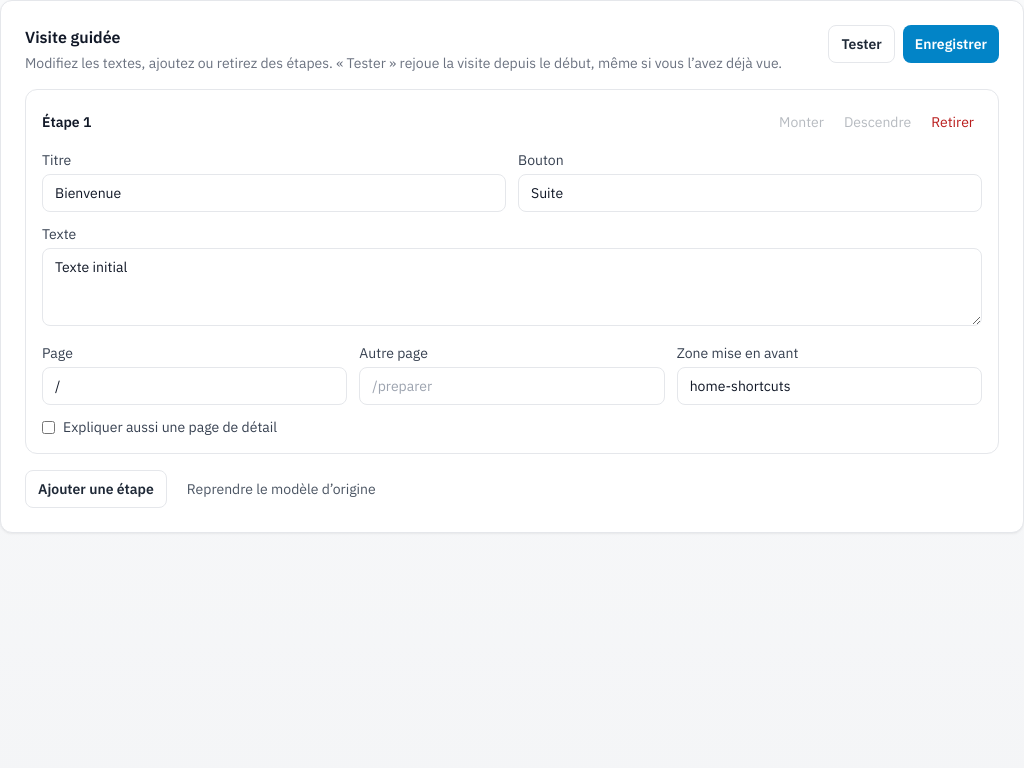
Test: OnboardingAdminPanel › modifie le texte, retire une étape et en ajoute une
Step 1. Replace the text in the field showing "Bienvenue" with "Bienvenue modifié" → (274, 193), box [42,174,506,212]
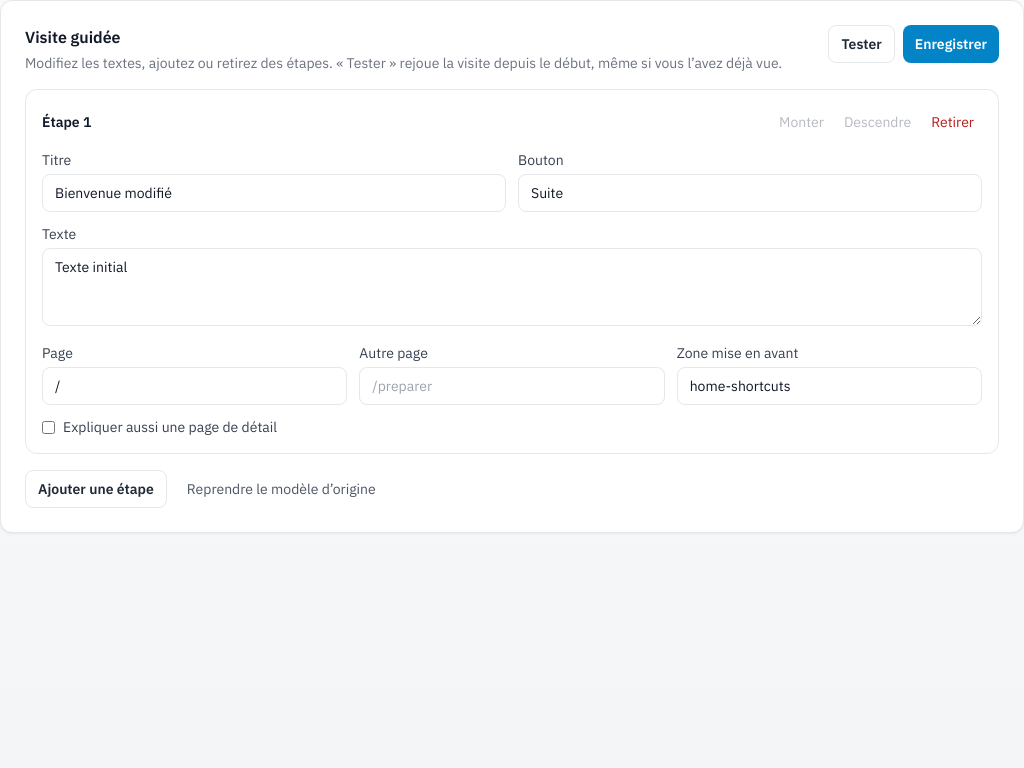
Step 2. Replace the text in the text box showing "Texte initial" with "Nouveau texte" → (512, 287), box [42,248,982,326]
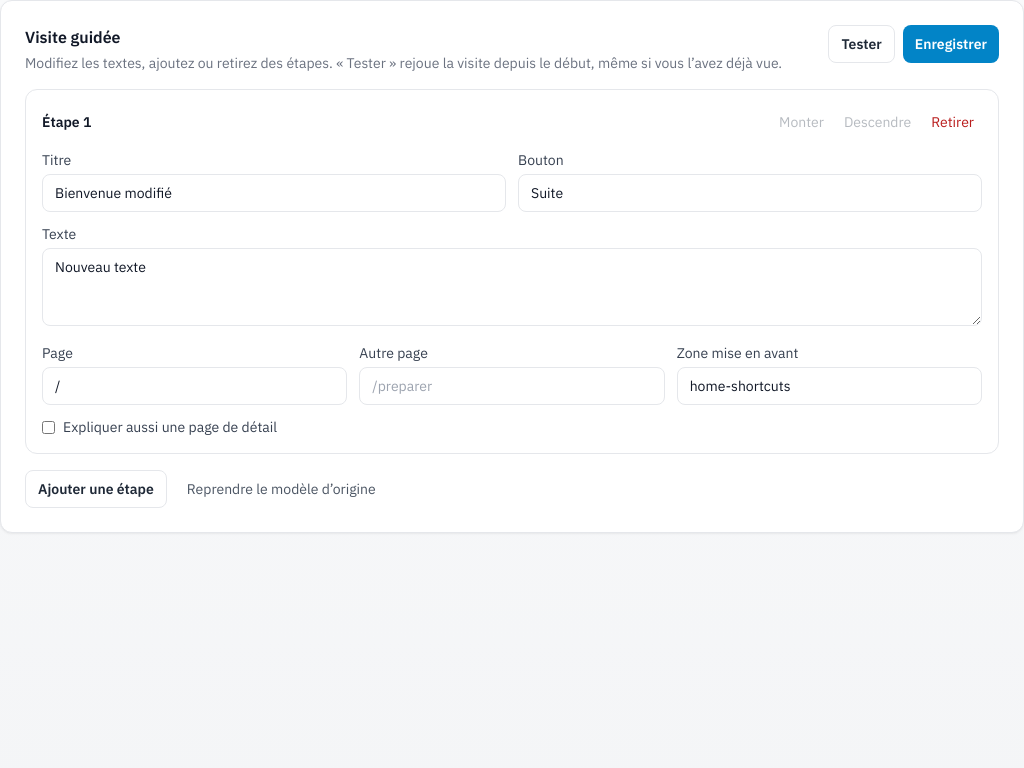
Step 3. Click the button "Retirer" → click(953, 122), box [923,106,982,138]
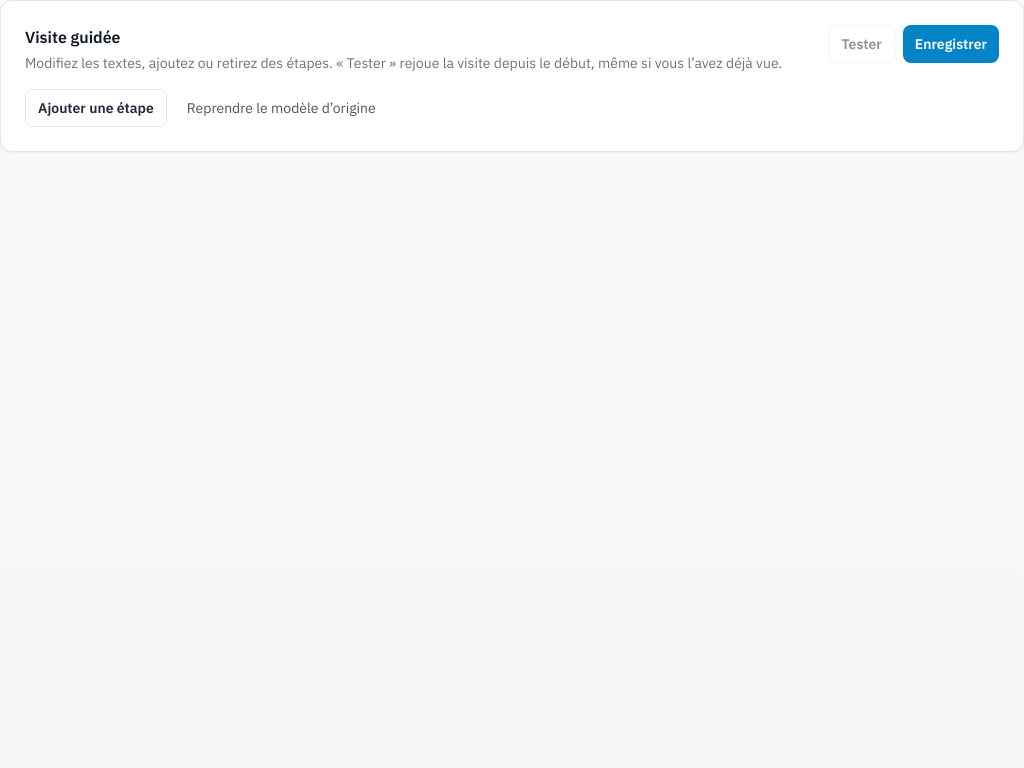
Expected: the field showing "Bienvenue modifié" is not shown
Step 4. Click the button "Ajouter une étape" → click(96, 108), box [25,89,167,127]
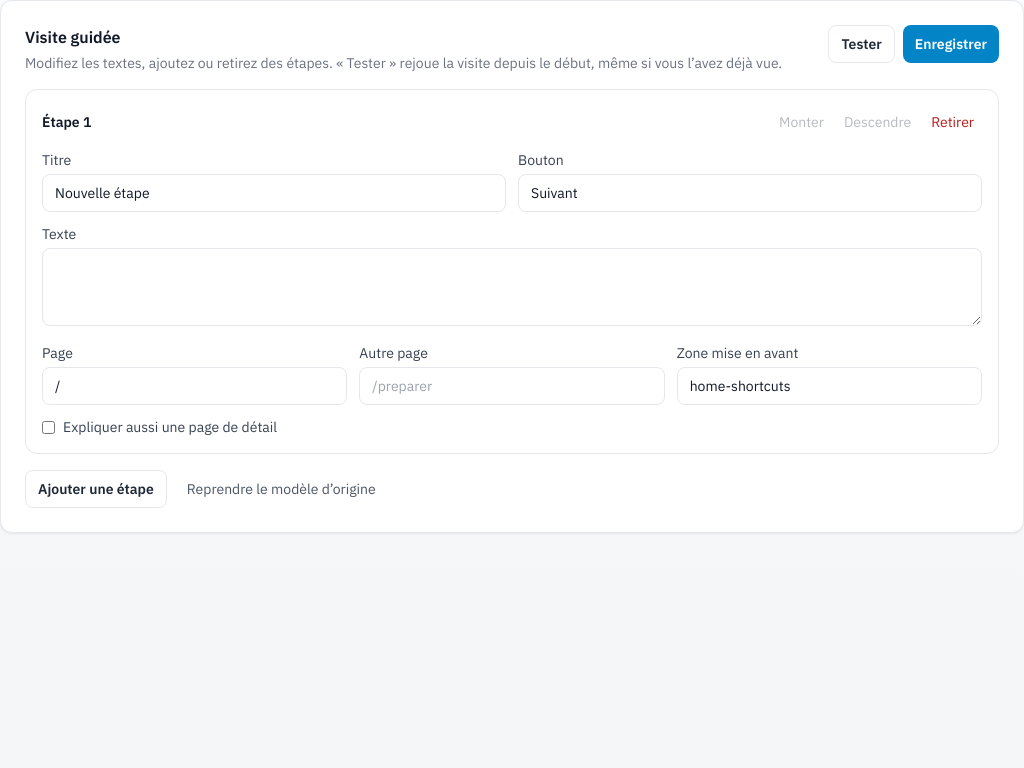
Now the field showing "Nouvelle étape" is shown, box [42,174,506,212]
